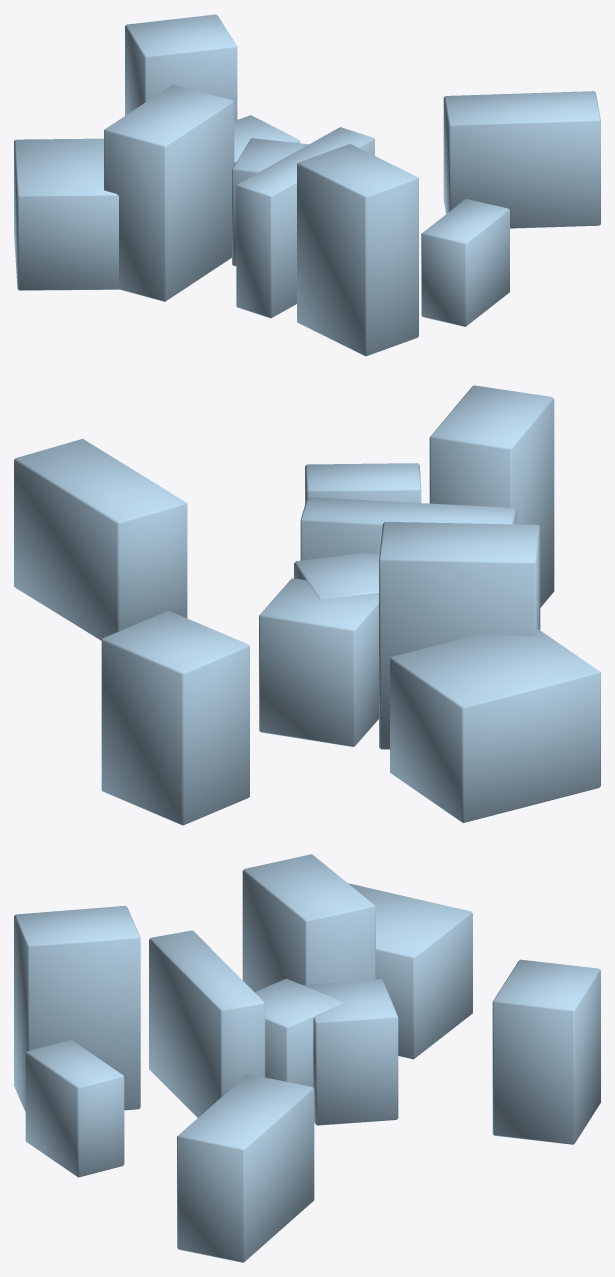
The model's file is ice-blocks.glb.
3 views of the same model, one above another, from view 1: azimuth 30°, elevation 25°; view 2: azimuth 150°, elevation 25°; view 3: azimuth 270°, elevation 25° (orthographic). The views are drawn at different scales.
Parts seen in each view (by area): view 1: ice-blocks; view 2: ice-blocks; view 3: ice-blocks.
Boxes of the visible parts, x1=… form: ice-blocks: x1=14, y1=14, x2=600, y2=356; ice-blocks: x1=14, y1=385, x2=600, y2=825; ice-blocks: x1=14, y1=854, x2=600, y2=1262.
Bounding box in the file's own units: 6.95 × 2.02 × 6.2.
